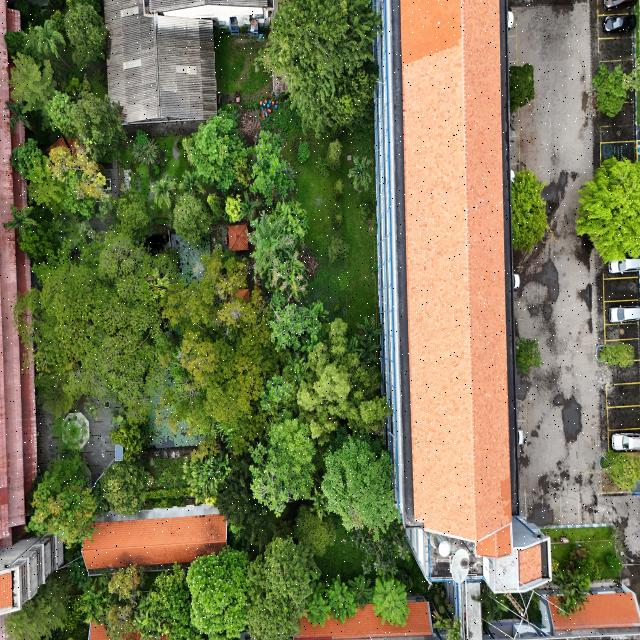Tree: (319, 434, 404, 541), (506, 165, 550, 252), (589, 52, 635, 122), (370, 563, 412, 631), (173, 189, 213, 246), (506, 54, 540, 110), (604, 328, 640, 378), (346, 154, 378, 192), (512, 337, 542, 376), (225, 188, 245, 224)
